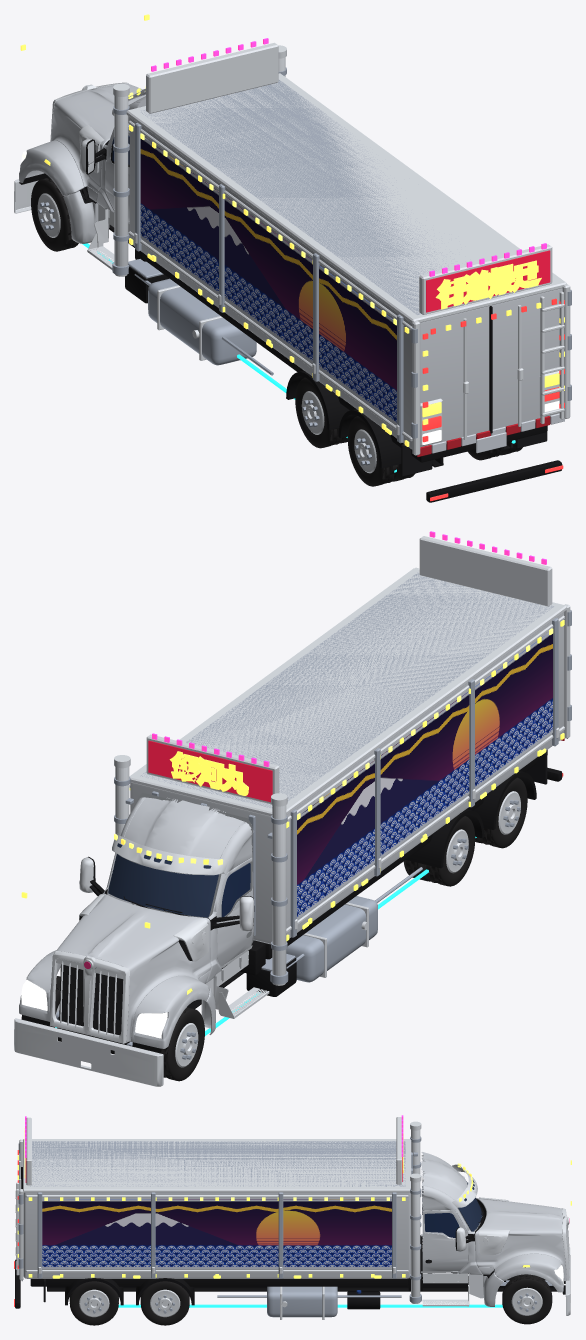
Rendered from dekotora_truck_base_americana.glb.
3 views of the same model, one above another, from view 1: azimuth 30°, elevation 25°; view 2: azimuth 150°, elevation 25°; view 3: azimuth 270°, elevation 25° (orthographic). The views are drawn at different scales.
Parts seen in each view (by area): view 1: truck_chrome, truck_steel, truck_paint_white_panel, truck_mural, truck_plastic_black, truck_lamp_amber, wheel_f_L, wheel_r_L_1.5_1.06, wheel_r_L_3.0_1.06, truck_andon_panel, truck_paint_white, truck_lamp_red (+3 smaller); view 2: truck_chrome, truck_steel, truck_paint_white_panel, truck_mural, truck_plastic_black, truck_glass_wind, truck_lamp_amber, truck_andon_panel, wheel_f_L, wheel_r_L_3.0_1.06, wheel_r_L_1.5_1.06, truck_lamp_white (+2 smaller); view 3: truck_chrome, truck_mural, truck_paint_white_panel, truck_steel, truck_plastic_black, wheel_f_R, wheel_r_R_3.0_1.06, wheel_r_R_1.5_1.06, truck_lamp_amber, truck_lamp_cyan, truck_glass, truck_glass_wind.
Boxes of the visible parts, x1=… form: truck_chrome: x1=14, y1=42, x2=570, y2=455; truck_steel: x1=77, y1=67, x2=571, y2=443; truck_paint_white_panel: x1=19, y1=83, x2=562, y2=449; truck_mural: x1=140, y1=138, x2=396, y2=424; truck_plastic_black: x1=19, y1=139, x2=562, y2=502; truck_lamp_amber: x1=20, y1=14, x2=564, y2=446; wheel_f_L: x1=31, y1=177, x2=78, y2=251; wheel_r_L_1.5_1.06: x1=347, y1=416, x2=398, y2=486; wheel_r_L_3.0_1.06: x1=295, y1=377, x2=343, y2=448; truck_andon_panel: x1=426, y1=250, x2=550, y2=312; truck_paint_white: x1=431, y1=413, x2=564, y2=453; truck_lamp_red: x1=422, y1=298, x2=564, y2=501; truck_chrome: x1=14, y1=536, x2=570, y2=1086; truck_steel: x1=56, y1=572, x2=571, y2=1046; truck_paint_white_panel: x1=19, y1=612, x2=563, y2=1048; truck_mural: x1=297, y1=633, x2=552, y2=919; truck_plastic_black: x1=21, y1=750, x2=562, y2=1054; truck_glass_wind: x1=108, y1=843, x2=218, y2=917; truck_lamp_amber: x1=21, y1=620, x2=564, y2=994; truck_andon_panel: x1=148, y1=740, x2=272, y2=802; wheel_f_L: x1=161, y1=1007, x2=204, y2=1081; wheel_r_L_3.0_1.06: x1=424, y1=816, x2=475, y2=886; wheel_r_L_1.5_1.06: x1=479, y1=777, x2=527, y2=848; truck_lamp_white: x1=21, y1=979, x2=167, y2=1038; truck_chrome: x1=15, y1=1117, x2=570, y2=1319; truck_mural: x1=42, y1=1199, x2=391, y2=1268; truck_paint_white_panel: x1=23, y1=1152, x2=566, y2=1306; truck_steel: x1=18, y1=1136, x2=552, y2=1317; truck_plastic_black: x1=15, y1=1167, x2=565, y2=1309; wheel_f_R: x1=502, y1=1274, x2=552, y2=1324; wheel_r_R_3.0_1.06: x1=140, y1=1281, x2=189, y2=1325; wheel_r_R_1.5_1.06: x1=69, y1=1281, x2=118, y2=1325; truck_lamp_amber: x1=17, y1=1128, x2=571, y2=1278; truck_lamp_cyan: x1=118, y1=1304, x2=502, y2=1307; truck_glass: x1=422, y1=1182, x2=459, y2=1237; truck_glass_wind: x1=458, y1=1180, x2=482, y2=1231.
Size of the model in its own units: 2.85 by 3.91 by 11.81.
Materials: 20 (4 with a texture image).
